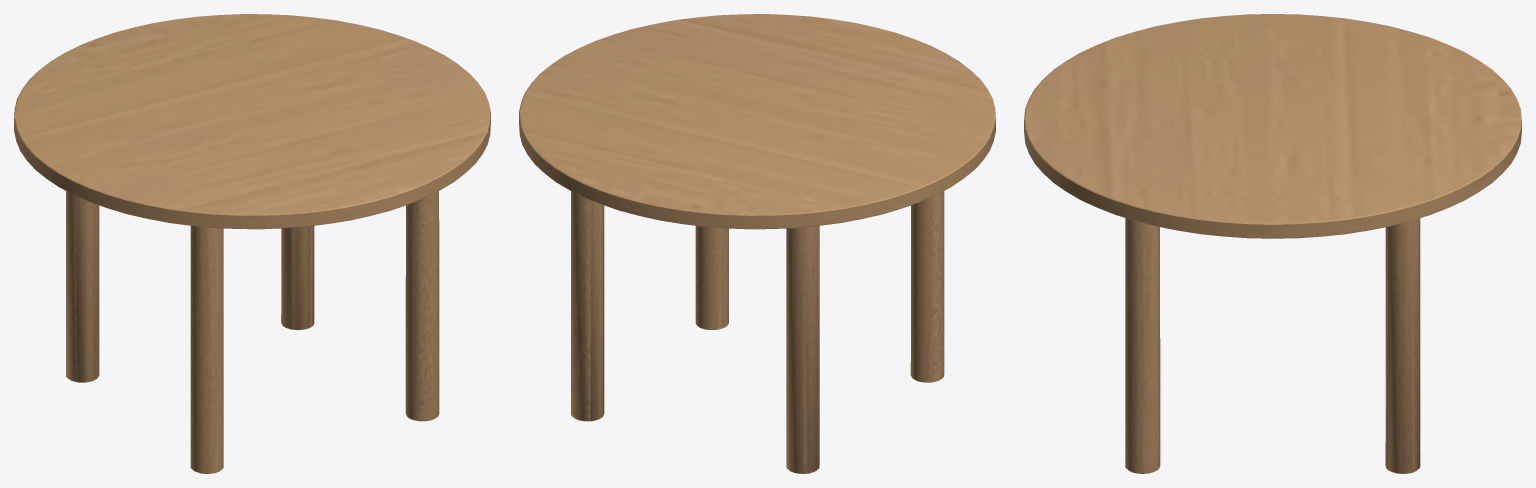
Rendered from stockholm_2025_sto_49579985.glb.
3 renders of one model, left to right at view 1: azimuth 30°, elevation 25°; view 2: azimuth 150°, elevation 25°; view 3: azimuth 270°, elevation 25°, orthographic. The views are drawn at different scales.
Visible parts, largest first — view 1: stockholm_2025_sto_49579985; view 2: stockholm_2025_sto_49579985; view 3: stockholm_2025_sto_49579985.
Part boxes in pixels (x1,y1,x2,y2): stockholm_2025_sto_49579985: (14, 14, 490, 473); stockholm_2025_sto_49579985: (519, 14, 995, 473); stockholm_2025_sto_49579985: (1024, 14, 1521, 473).
Size of the model in its own units: 1.15 by 0.7497 by 1.15.
1 material, 1 textured.
